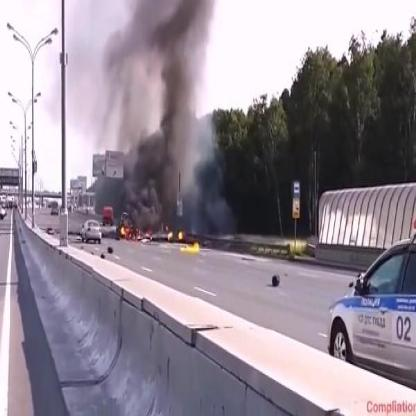fire: (118, 222, 140, 239), (167, 226, 185, 244), (180, 240, 202, 254)
